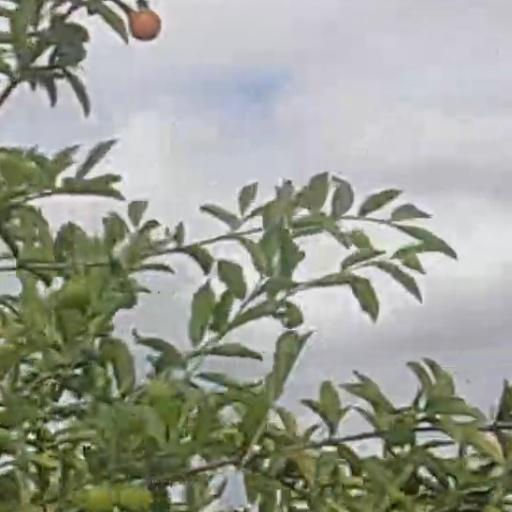acerola_verde: (76, 484, 109, 510), (119, 487, 154, 510)
acerola_vermelha: (131, 10, 160, 39)
